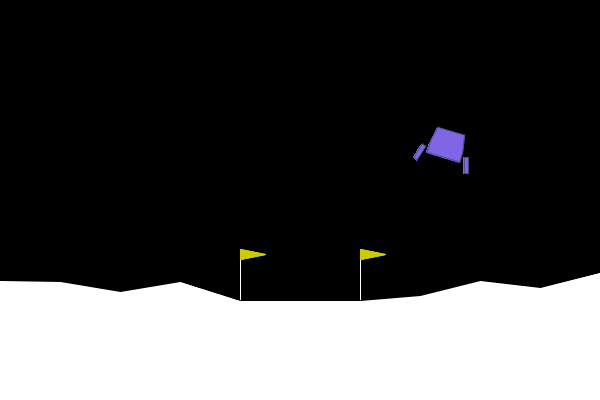lander: (411, 121, 480, 176)
